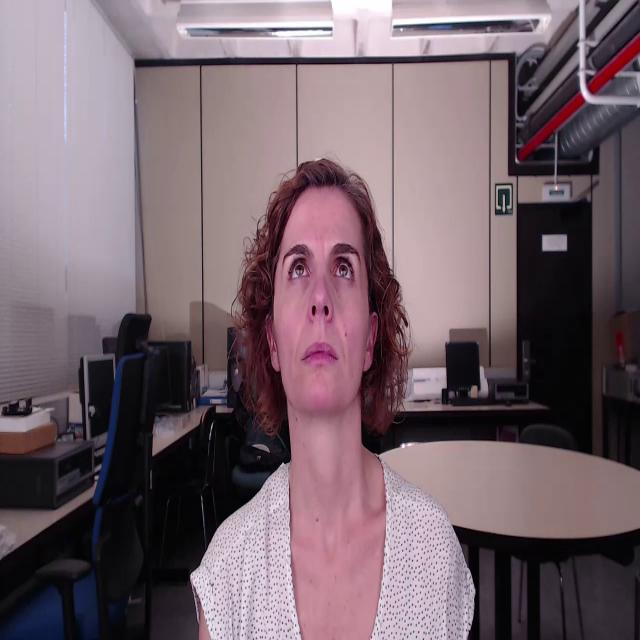eye: (285, 256, 312, 284), (331, 256, 356, 284)
gaze: (294, 263, 304, 277), (338, 264, 348, 277)
